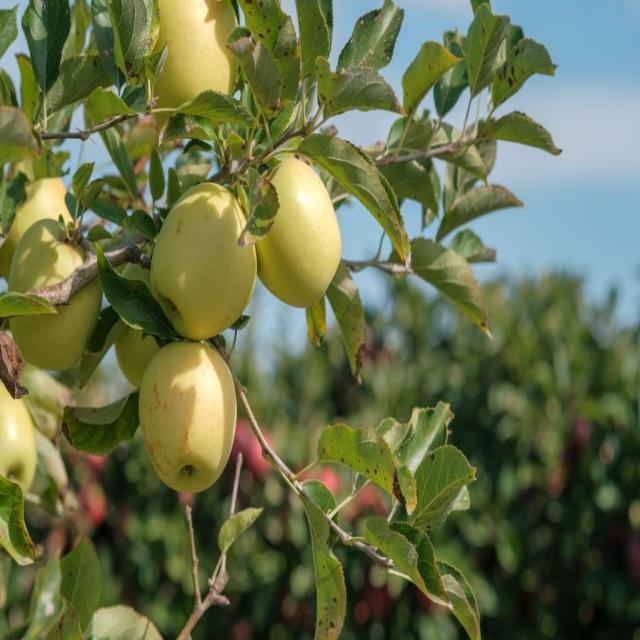Green Apple: (246, 153, 344, 307), (153, 186, 257, 329), (138, 338, 236, 486), (140, 1, 240, 114), (17, 219, 99, 356), (1, 153, 72, 253), (1, 369, 36, 504), (116, 291, 164, 382)
